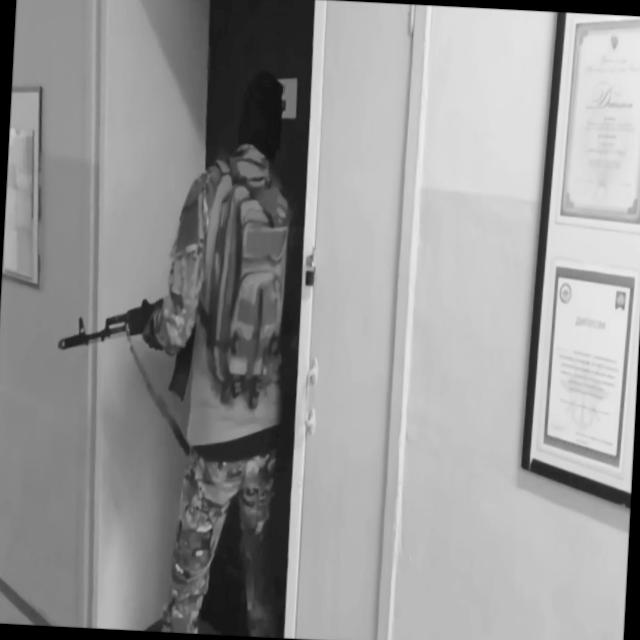gun: (55, 282, 200, 404)
person with a gun: (43, 56, 304, 638)
